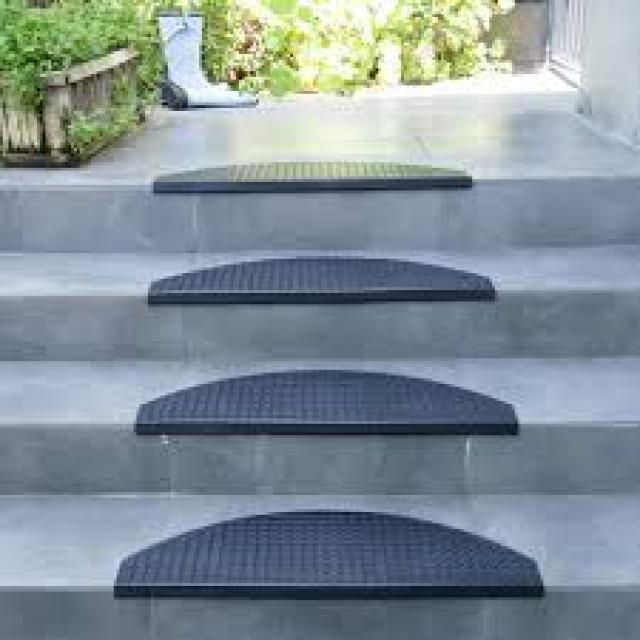upstair: (1, 94, 635, 632)
